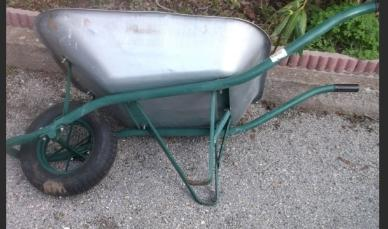BROUETTE: (4, 9, 388, 220)
